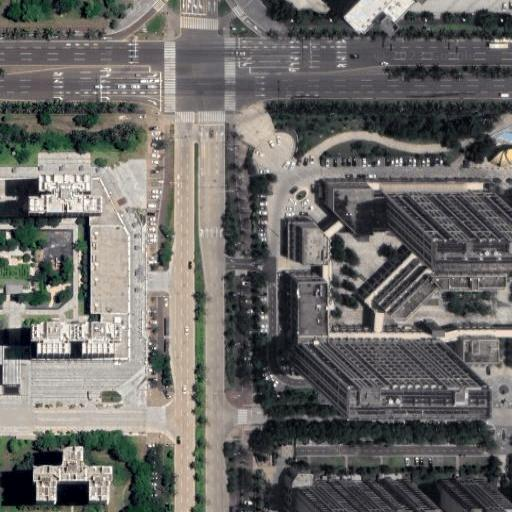building: (288, 184, 512, 363), (80, 176, 134, 358), (298, 344, 442, 382), (32, 447, 114, 501), (381, 193, 493, 224), (299, 487, 436, 512), (31, 320, 121, 358), (28, 174, 102, 212), (444, 482, 498, 507), (484, 130, 512, 161), (291, 473, 312, 512), (69, 341, 83, 358), (5, 284, 23, 293)
